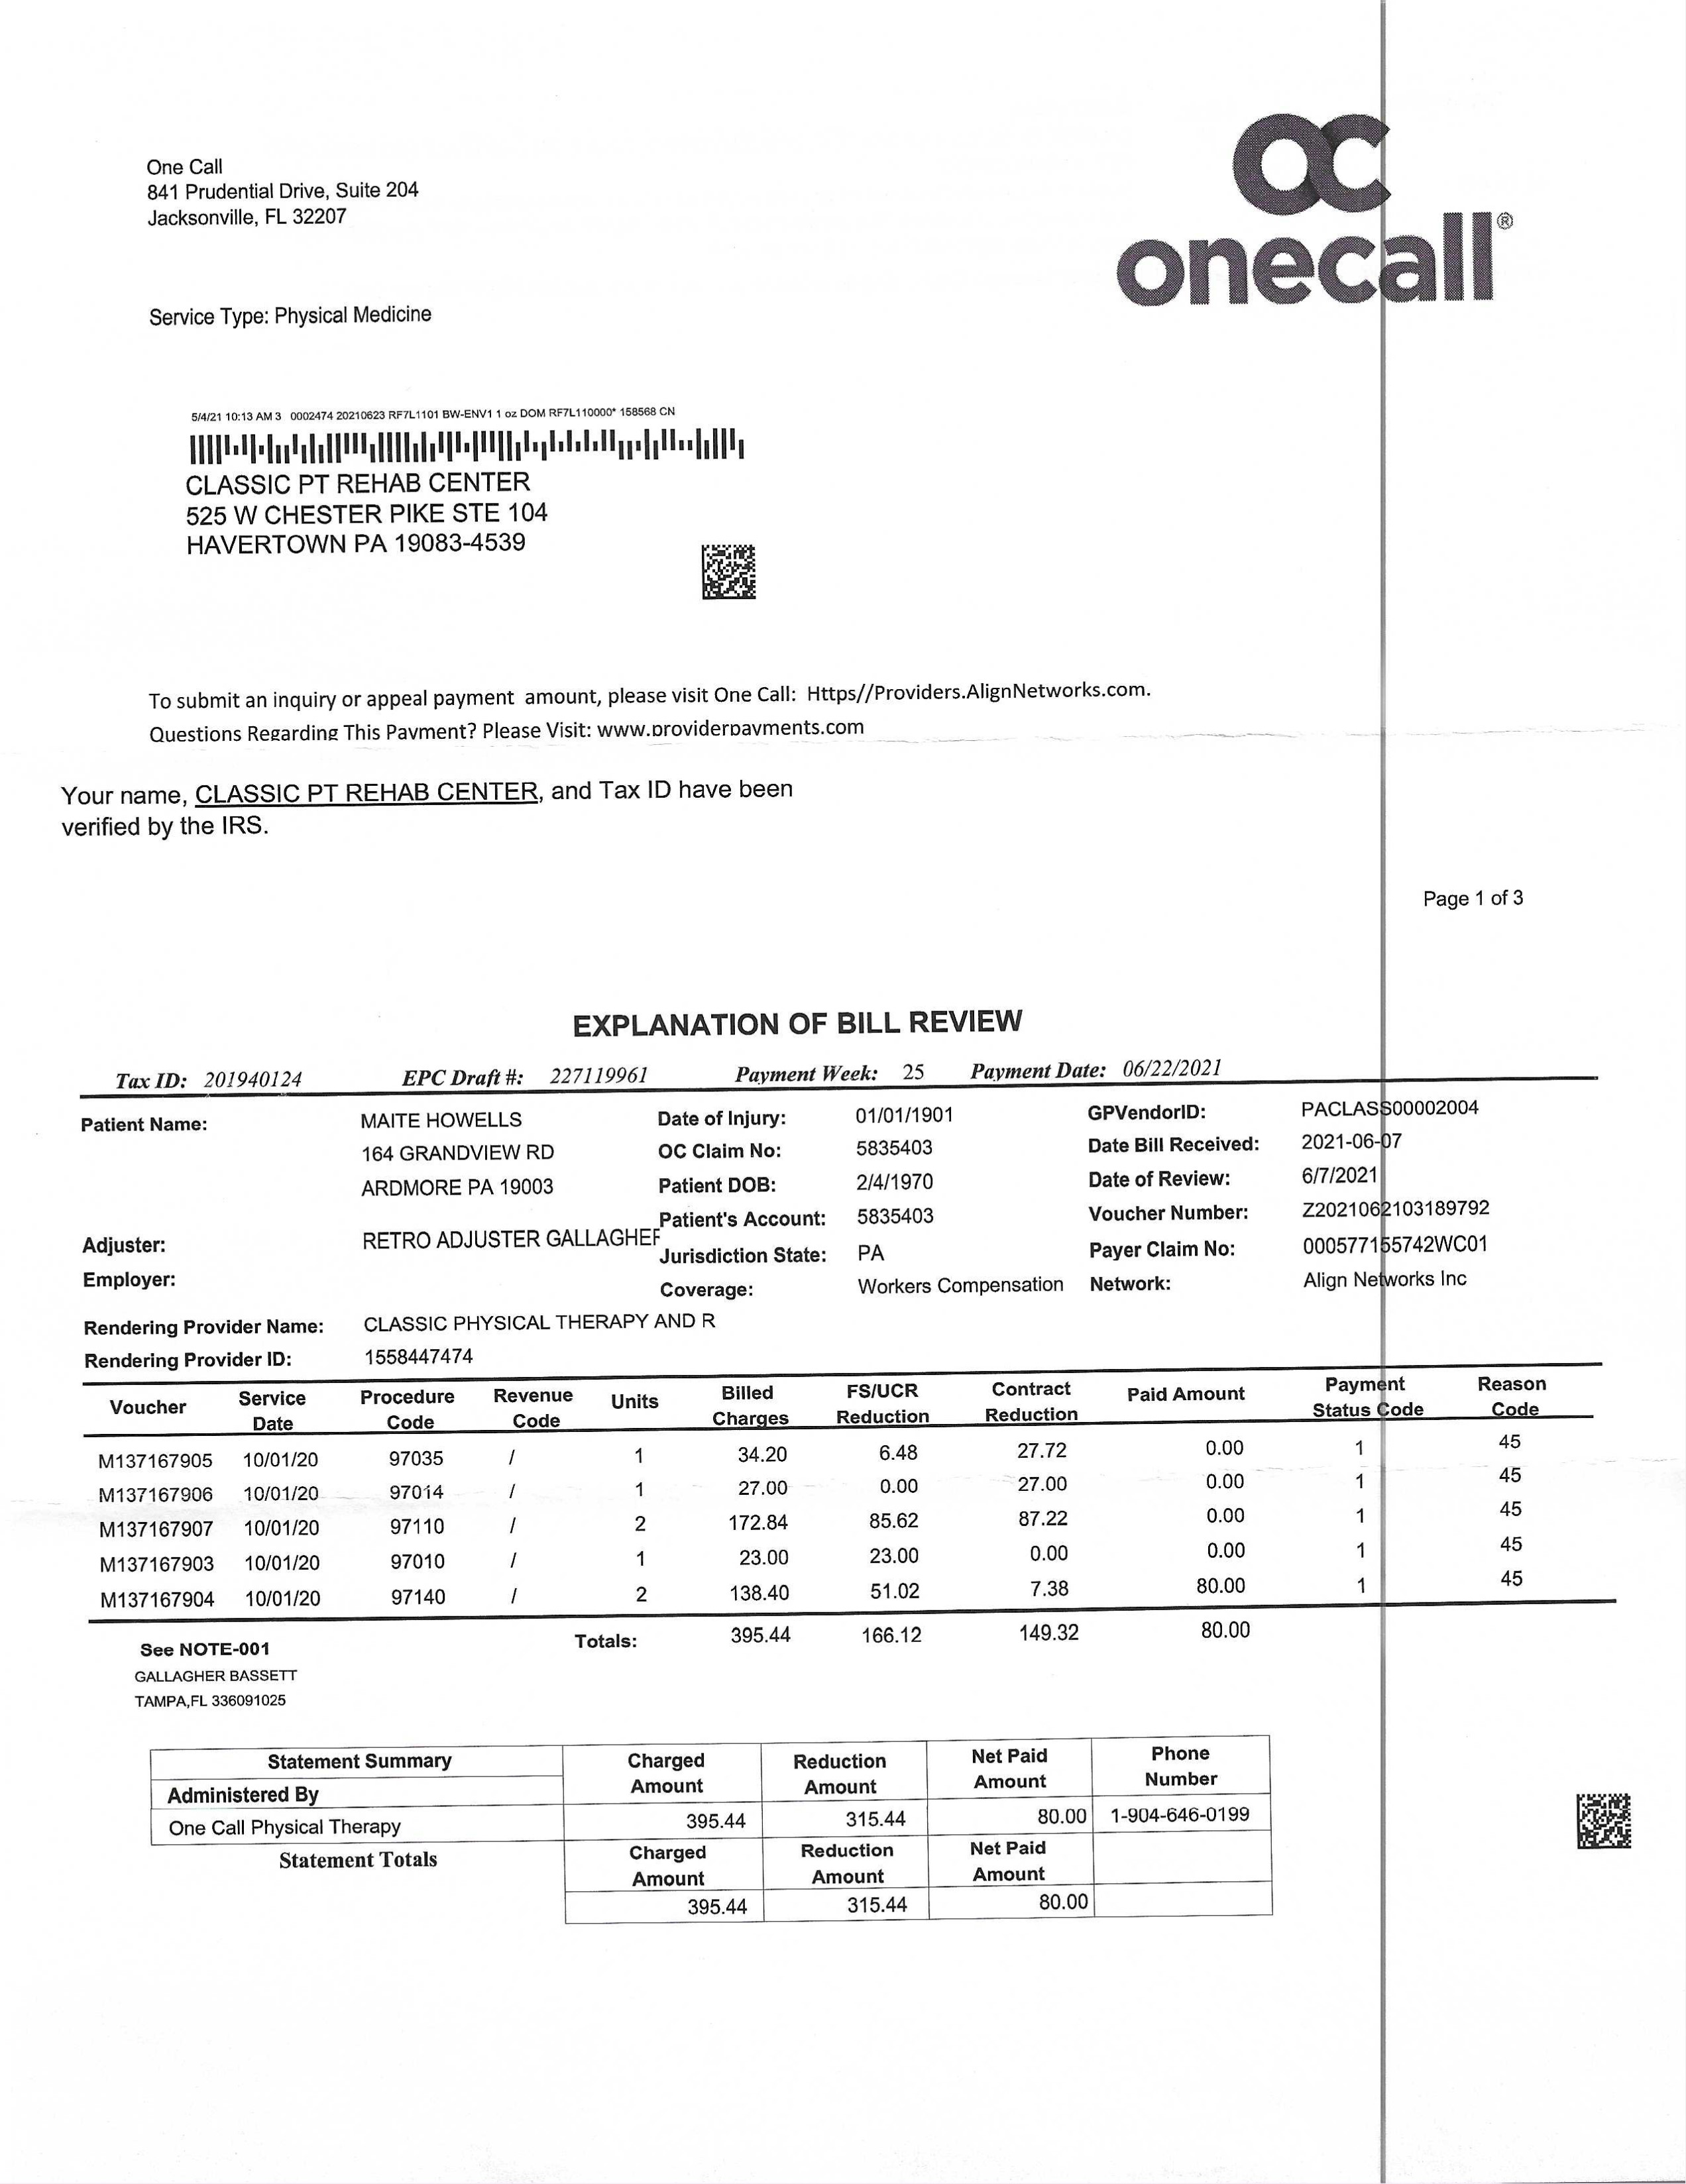data: (69, 1104, 1511, 1308)
table: (87, 1368, 1629, 1658)
